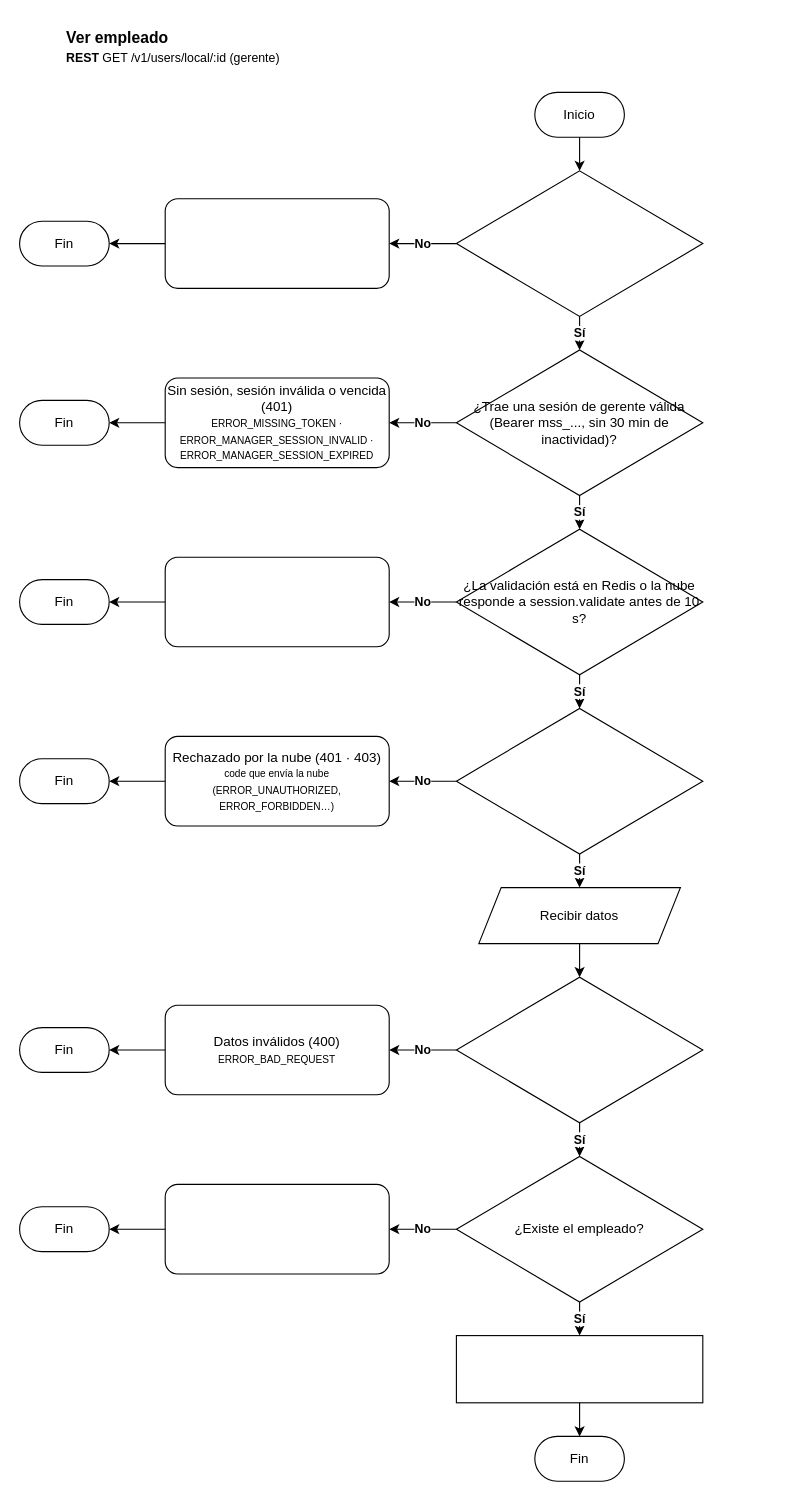
The diagram is 801 pixels wide and 1501 high, and some of its shapes have lost their labels. The box of each missing label's shape, as (x1, y1, x2, y2) in pixels:
El usuario no existe (404) ERROR_USER_NOT_EXIST: (164, 1183, 389, 1274)
La nube no responde (503) ERROR_CLOUD_UNAVAILABLE · ERROR_SERVER_UNLINKED: (164, 556, 389, 647)
Responder 200 con el mensaje USER_RETRIEVED: (455, 1334, 703, 1403)
Servidor sin emparejar (409) ERROR_SERVER_NOT_PAIRED: (164, 198, 389, 288)
¿El servidor ya se emparejó alguna vez (pairing_status distinto de unpaired)?: (455, 170, 703, 316)
¿La nube acepta la sesión del gerente con este servidor?: (455, 707, 703, 854)
¿Los datos son válidos?: (455, 976, 703, 1123)
